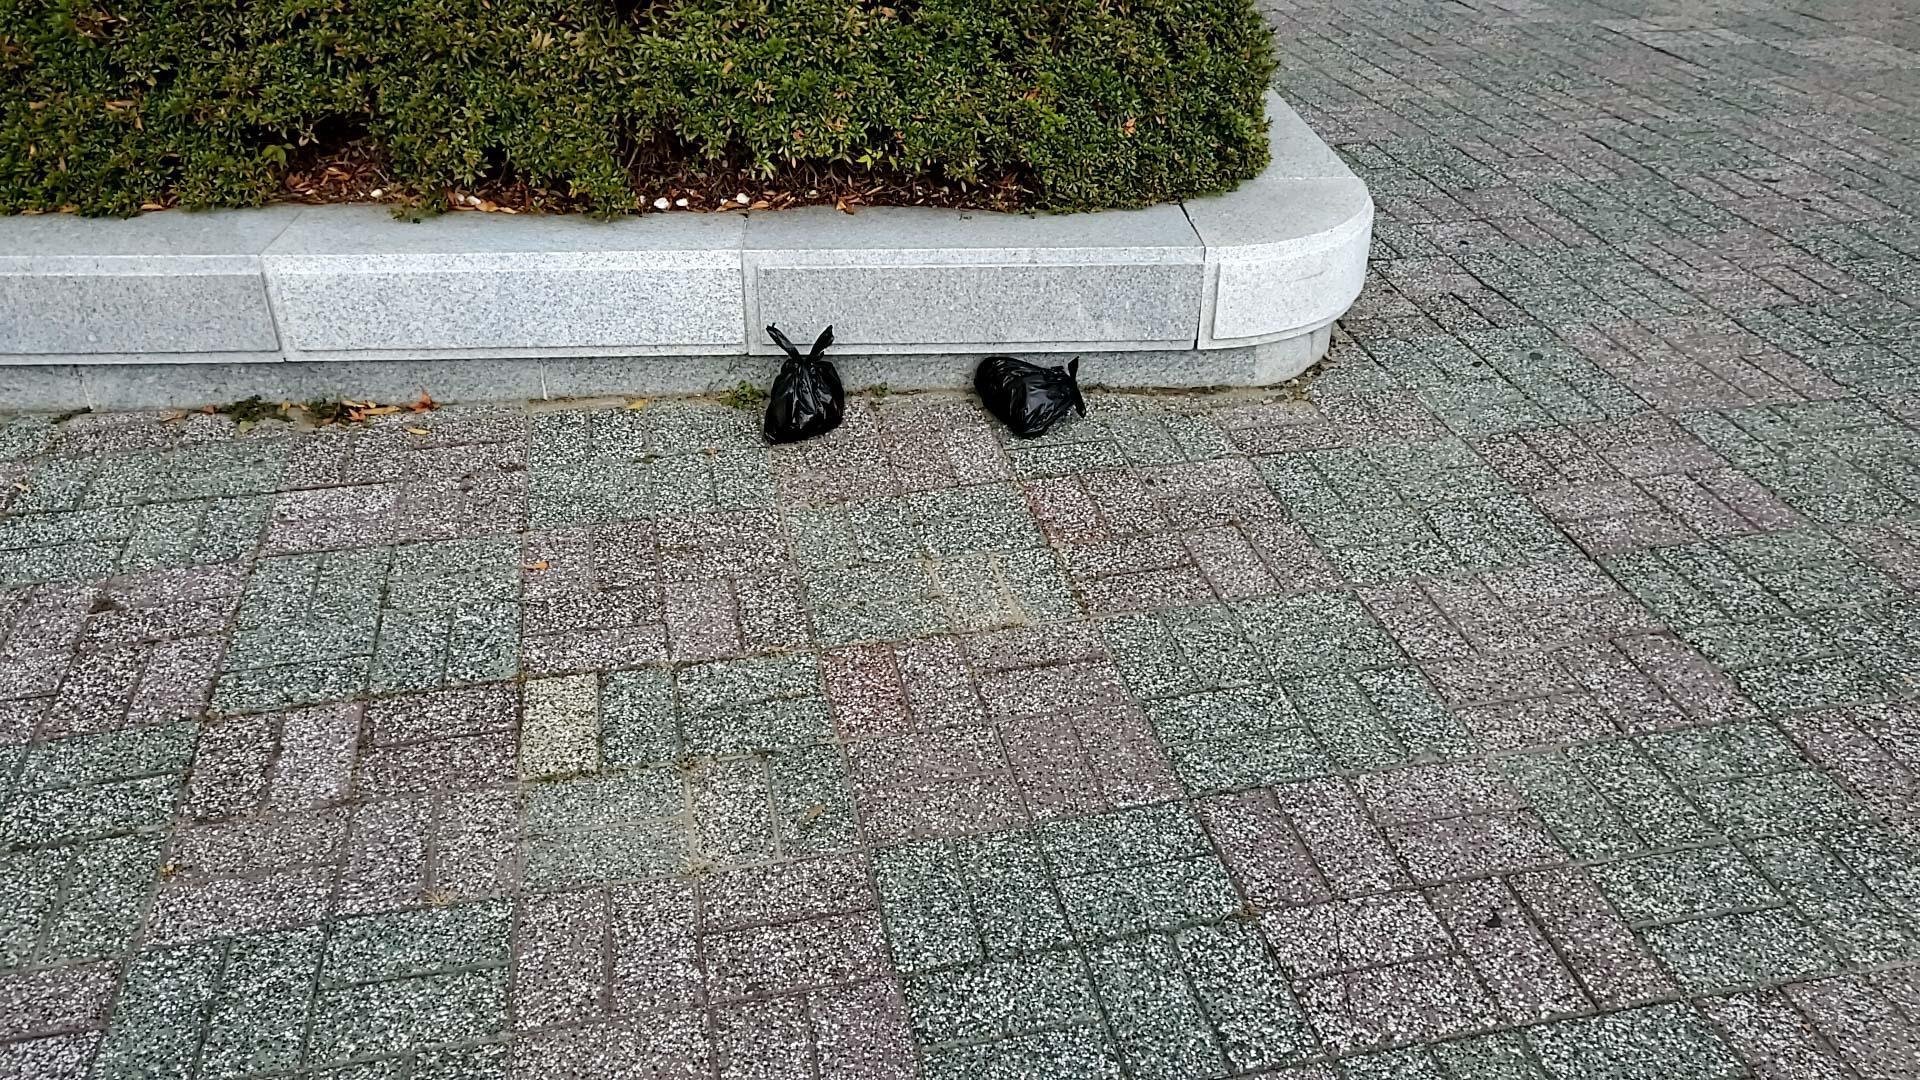black_bag: (752, 315, 857, 448), (971, 339, 1095, 440)
